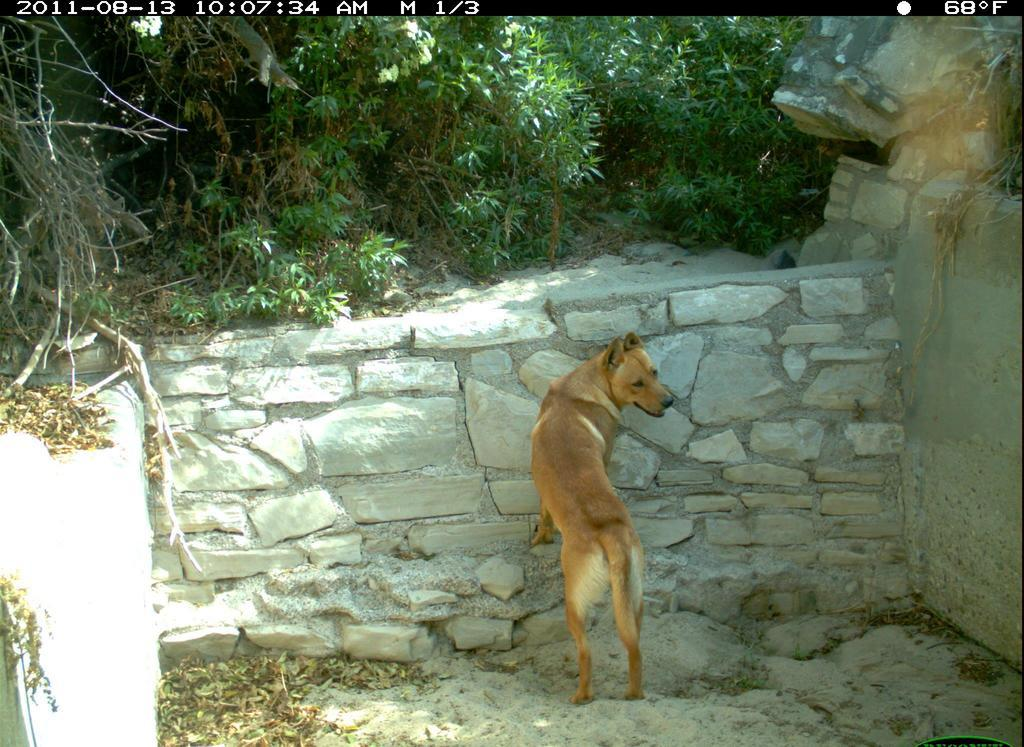dog: (524, 326, 684, 708)
